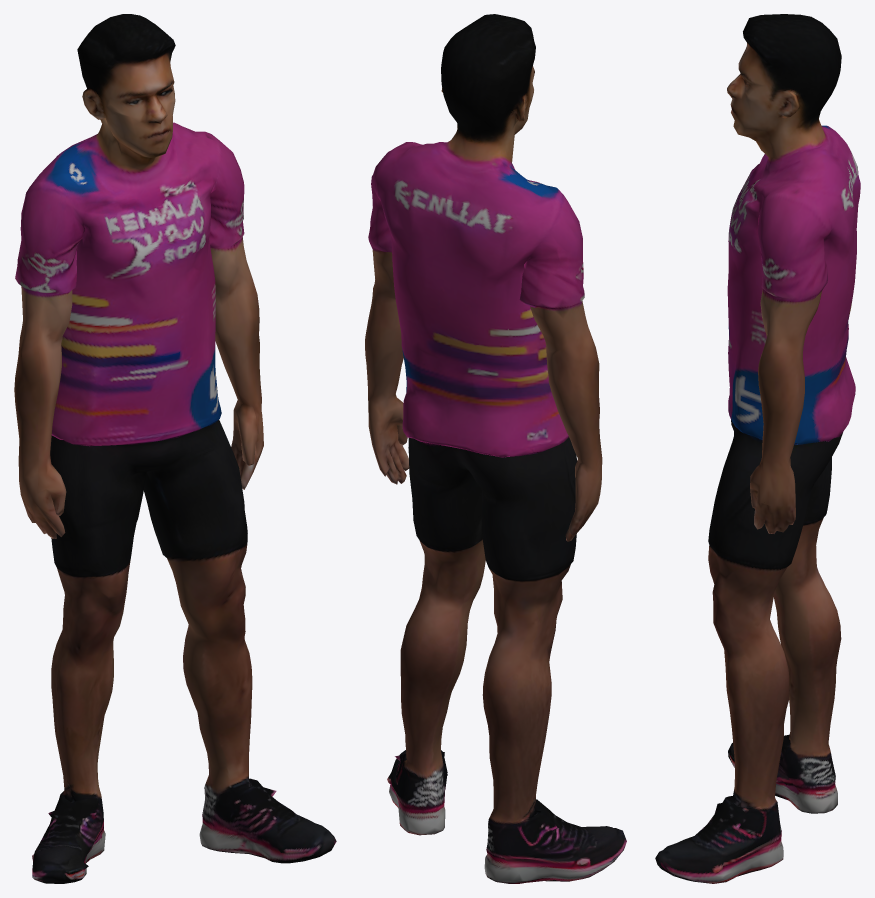
File: 5_4_idle.glb
3 renders of one model, left to right at view 1: azimuth 30°, elevation 25°; view 2: azimuth 150°, elevation 25°; view 3: azimuth 270°, elevation 25°, orthographic. The views are drawn at different scales.
Parts seen in each view (by area): view 1: Idle; view 2: Idle; view 3: Idle.
Boxes of the visible parts, x1,y1,x2,y2 form: Idle: (14, 14, 336, 883); Idle: (365, 14, 626, 883); Idle: (655, 14, 860, 883).
Bounding box in the file's own units: 32.28 × 99.68 × 23.01.
Materials: 1 (1 with a texture image).
